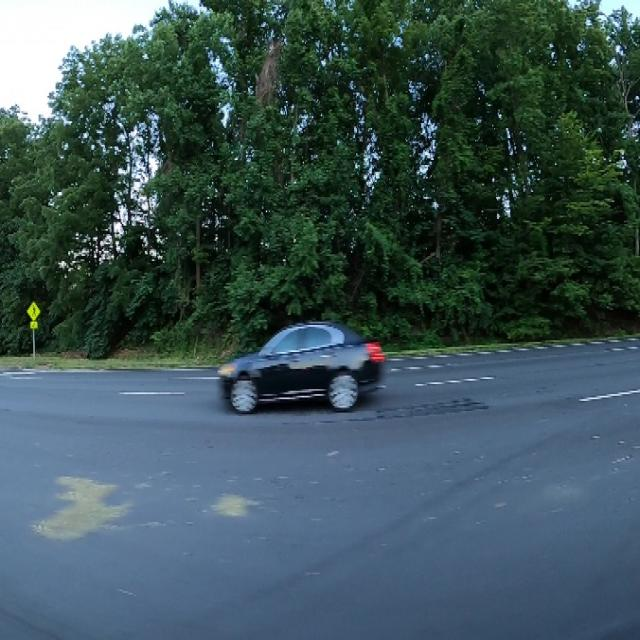cars: (216, 312, 388, 428)
